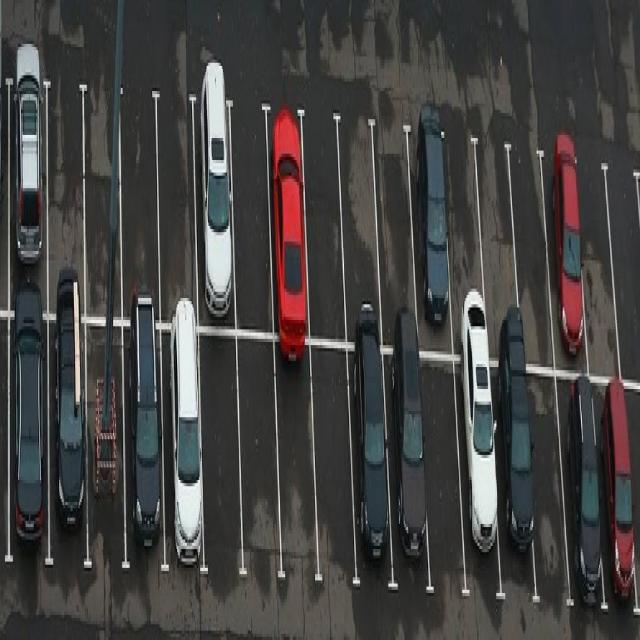space-empty: (424, 349, 462, 593), (241, 332, 276, 590), (201, 337, 238, 577), (306, 103, 343, 340), (281, 348, 318, 582), (342, 102, 377, 348), (315, 348, 351, 586), (234, 84, 268, 336), (580, 137, 616, 374), (376, 118, 414, 335), (515, 126, 549, 365), (159, 79, 192, 323), (122, 89, 158, 308), (84, 89, 118, 319), (50, 86, 84, 315), (445, 120, 479, 335), (528, 376, 559, 606), (482, 120, 512, 344), (613, 142, 639, 383)
space-occupied: (348, 346, 388, 602), (164, 318, 202, 580), (47, 318, 84, 571), (123, 325, 160, 574), (8, 328, 47, 564), (459, 351, 496, 599), (596, 374, 632, 625), (88, 328, 126, 564), (12, 69, 48, 308), (412, 107, 446, 360), (198, 72, 231, 326), (391, 356, 425, 596), (547, 125, 579, 367), (274, 81, 304, 332), (499, 349, 527, 586), (565, 380, 593, 598)
